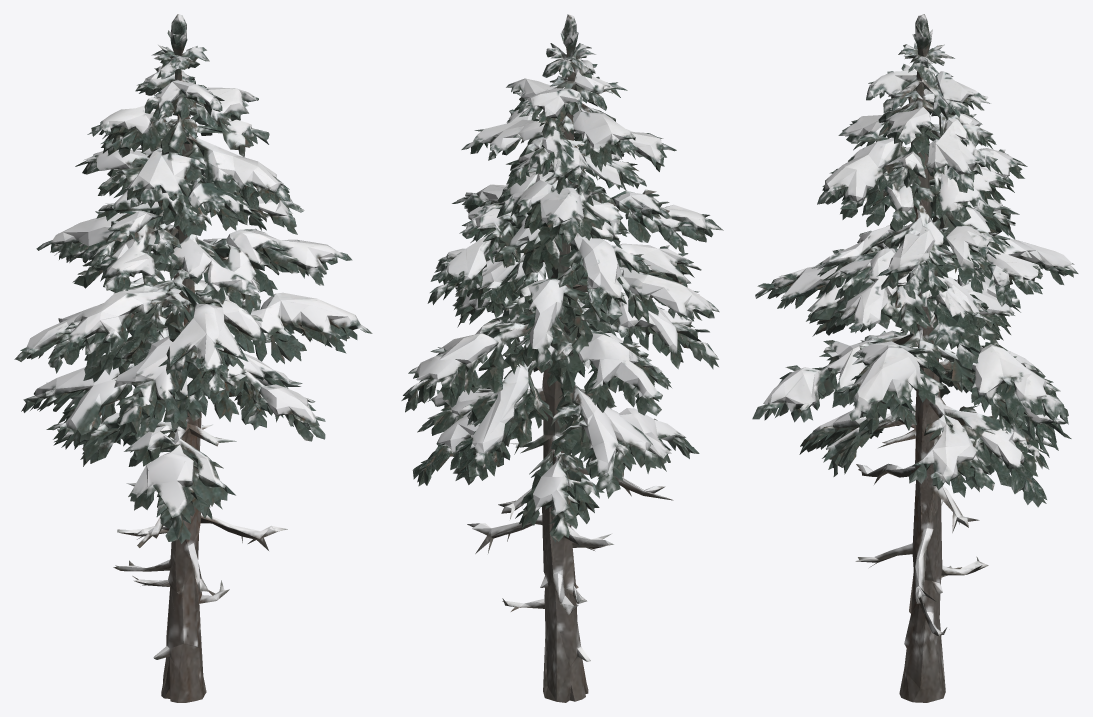
Rendered from urman_winter_pine_meshy_v1.glb.
3 renders of one model, left to right at view 1: azimuth 30°, elevation 25°; view 2: azimuth 150°, elevation 25°; view 3: azimuth 270°, elevation 25°, orthographic.
Visible parts, largest first — view 1: WinterPine_LOD0; view 2: WinterPine_LOD0; view 3: WinterPine_LOD0.
Boxes of the visible parts, box(x1,y1,x2,y2) form: WinterPine_LOD0: box(14, 14, 372, 702); WinterPine_LOD0: box(401, 14, 723, 702); WinterPine_LOD0: box(752, 14, 1078, 702).
Size of what is drawn, in the model's own units: 0.4429 by 1 by 0.437.
1 material, 1 textured.
